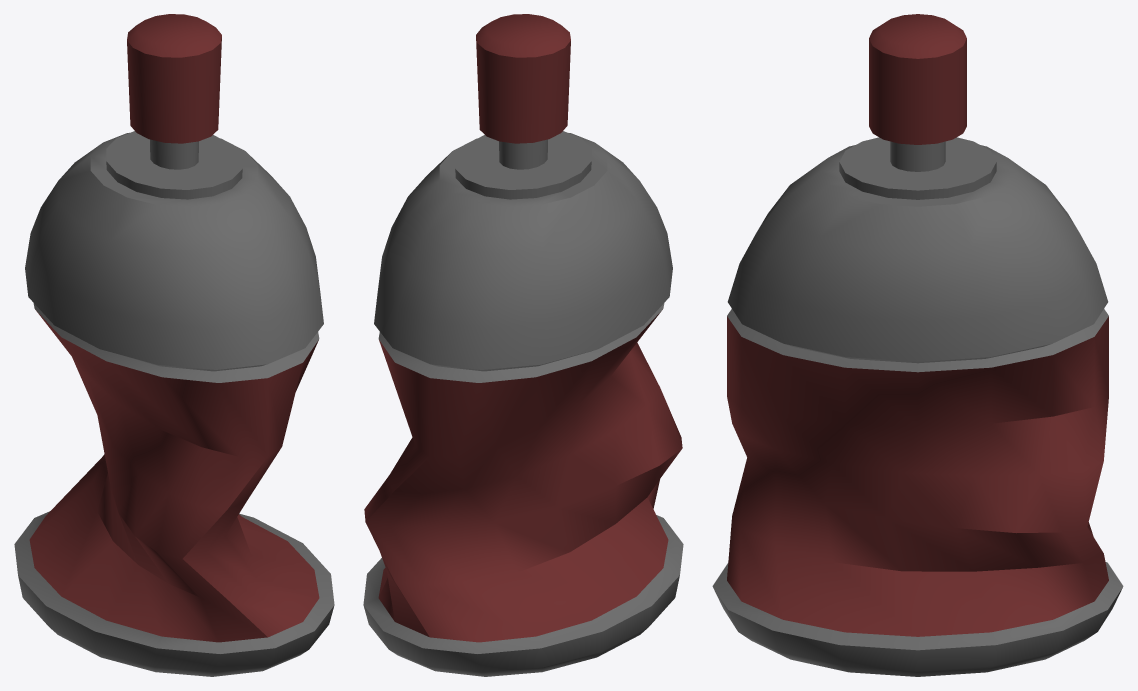
File: Spray_05.fbx
The picture shows the model from 3 angles, left to right: view 1: azimuth 30°, elevation 25°; view 2: azimuth 150°, elevation 25°; view 3: azimuth 270°, elevation 25°; orthographic projection. The views are drawn at different scales.
Visible parts, largest first — view 1: Spray_05; view 2: Spray_05; view 3: Spray_05.
Part boxes in pixels (bbox=[...]): Spray_05: bbox=[14, 14, 334, 676]; Spray_05: bbox=[363, 14, 683, 676]; Spray_05: bbox=[712, 14, 1123, 676].
Bounding box in the file's own units: 21.41 × 45.94 × 29.06.
